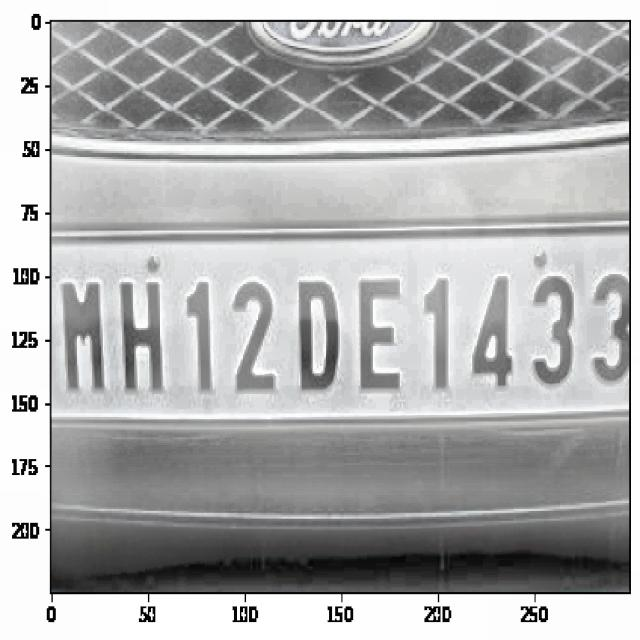license_plate: (51, 252, 634, 411)
